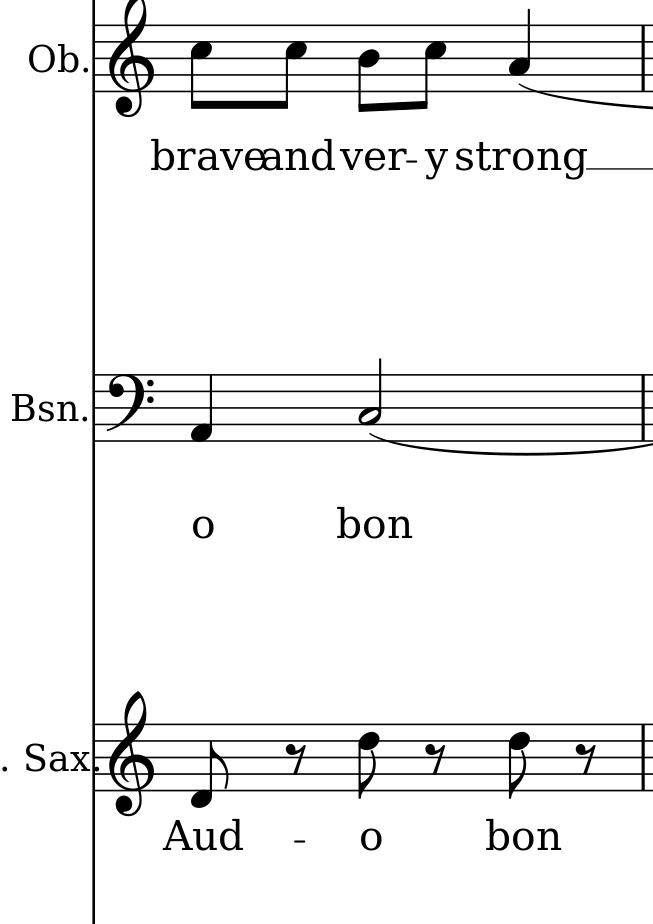2_3: (358, 357, 383, 443)
4_1: (188, 373, 215, 445)
4_3: (507, 8, 533, 93)
8_-1: (190, 722, 229, 810)
8_4: (356, 23, 381, 114)
8_5: (276, 24, 309, 113), (417, 24, 446, 111), (187, 23, 213, 115)
8_6: (356, 723, 381, 803), (506, 722, 531, 800)
Bsn: (9, 392, 76, 427)
Fclef: (102, 371, 157, 443)
Gclef: (107, 690, 156, 817), (106, 1, 156, 119)
Ob: (27, 33, 81, 75)
Rests8: (422, 742, 447, 778), (574, 744, 597, 777), (284, 743, 307, 775)
Sax: (24, 738, 89, 779)
Single_barline: (86, 374, 102, 444), (635, 374, 651, 440), (635, 25, 651, 91), (88, 724, 103, 793), (87, 26, 102, 92), (636, 725, 651, 789)
